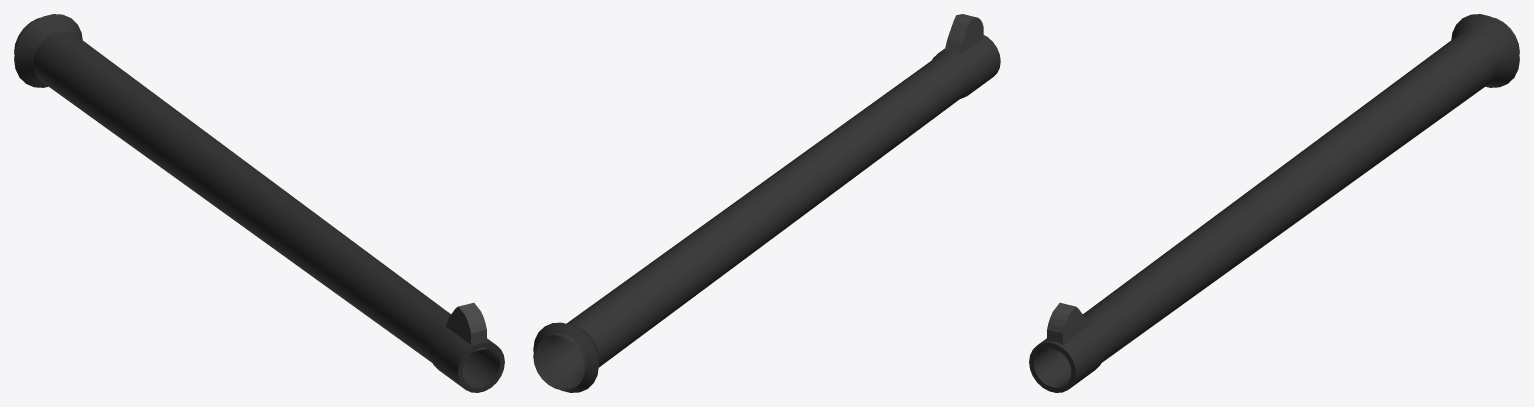
The model's file is barrel_0.fbx.
3 views of the same model, side by side, from view 1: azimuth 30°, elevation 25°; view 2: azimuth 150°, elevation 25°; view 3: azimuth 330°, elevation 25° (orthographic). The views are drawn at different scales.
Visible parts, largest first — view 1: barrel_0; view 2: barrel_0; view 3: barrel_0.
Part boxes in pixels (<box>): barrel_0: <box>14,14,504,392</box>; barrel_0: <box>533,14,1000,392</box>; barrel_0: <box>1029,14,1519,392</box>.
Bounding box in the file's own units: 152 × 185 × 1680.
